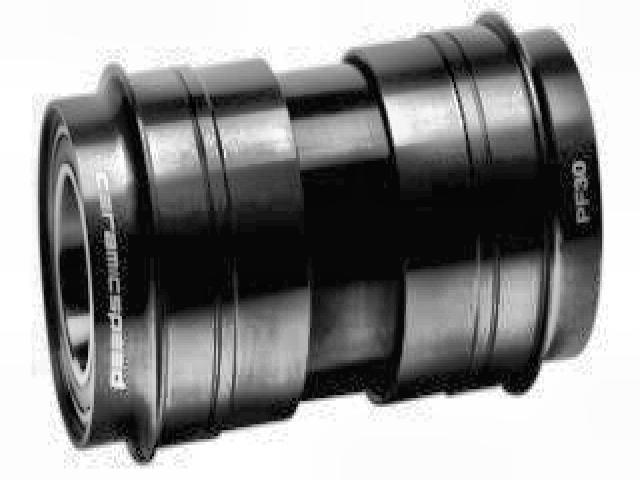bottom_bracket: (35, 9, 602, 462)
